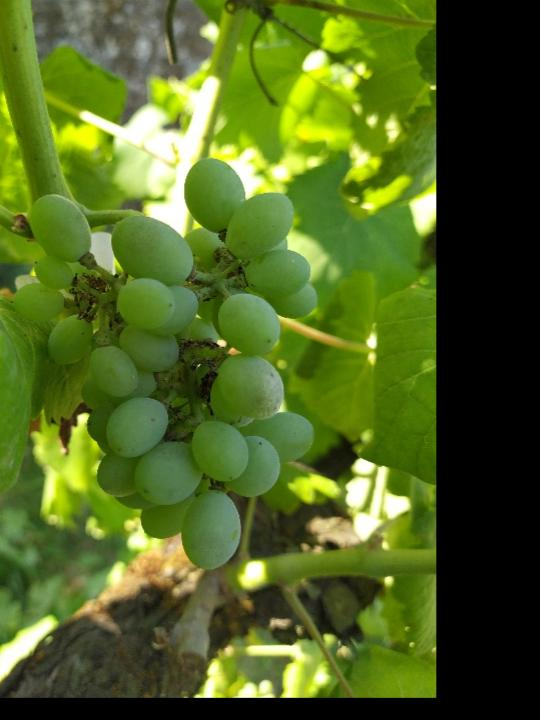grape: (7, 151, 324, 578)
